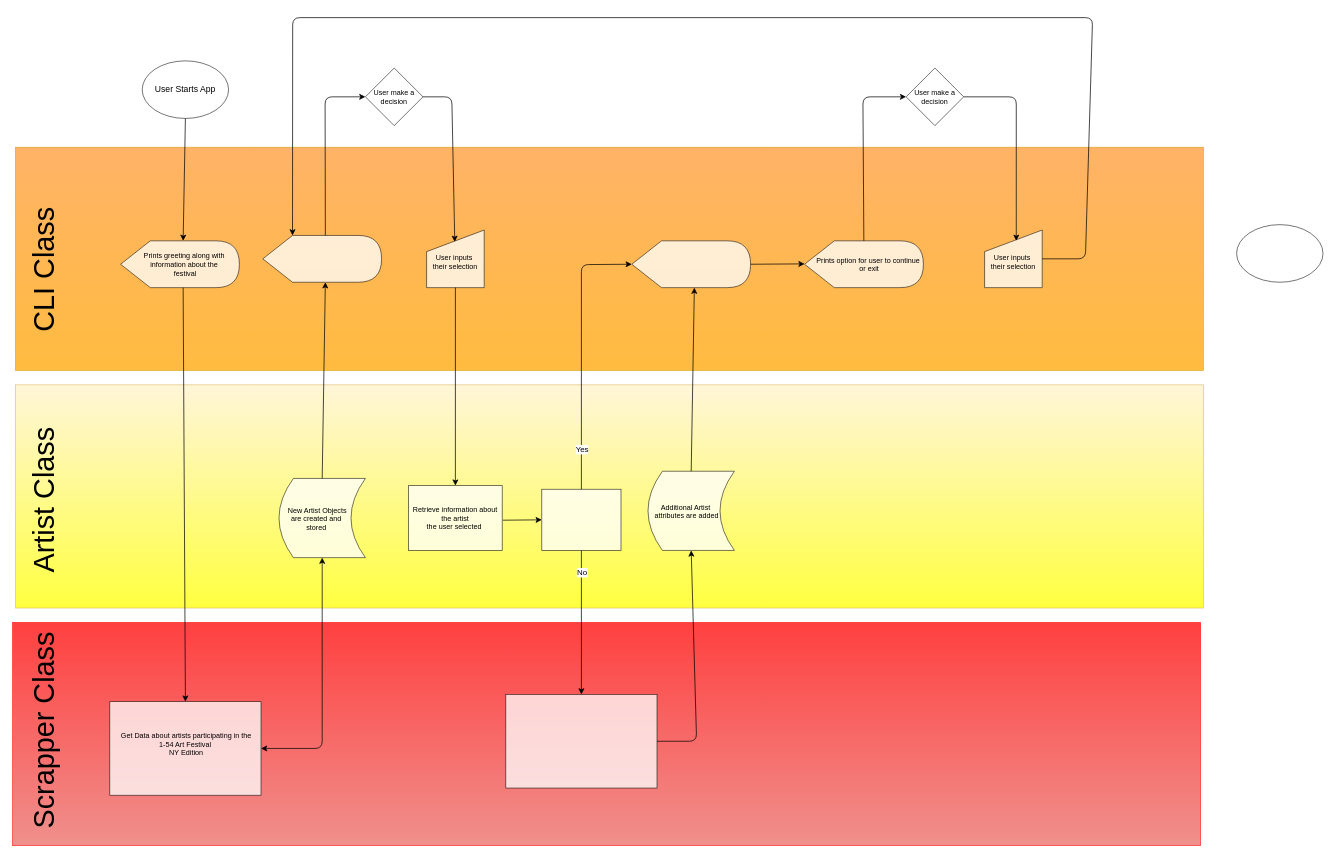
This 1336x858 diagram has some shape labels left out. The shapes that lost their labels are listed below. From the top down, each one's box as (x1, y1, x2, y2) in pixels, then its label:
(262, 235, 382, 282): Prints out a numbered list of all Artist and asks user to choose
(631, 240, 751, 288): Prints details of the chosen Artist
(1236, 224, 1323, 282): User Exits App
(541, 489, 621, 550): Check if the details already exist
(505, 694, 657, 788): Get details about individual artist
